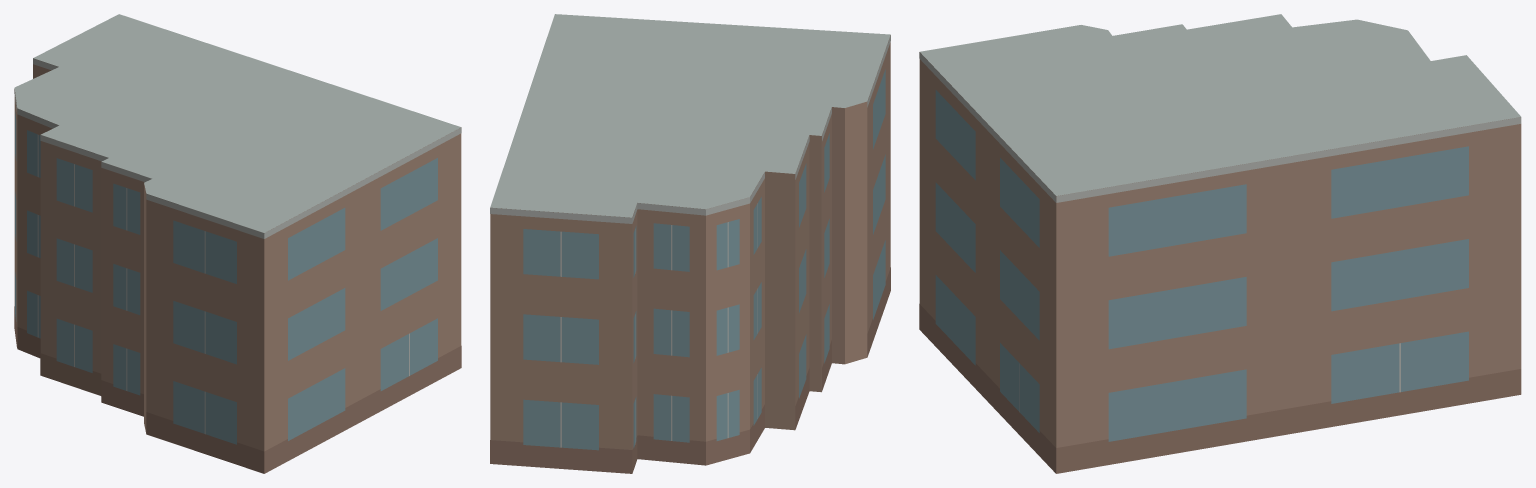
File: survey-upis-32982954.glb
The picture shows the model from 3 angles, left to right: view 1: azimuth 30°, elevation 25°; view 2: azimuth 150°, elevation 25°; view 3: azimuth 270°, elevation 25°; orthographic projection. The views are drawn at different scales.
Visible parts, largest first — view 1: survey-upis-32982954.tmp; view 2: survey-upis-32982954.tmp; view 3: survey-upis-32982954.tmp.
Boxes of the visible parts, x1,y1,x2,y2 form: survey-upis-32982954.tmp: [14, 14, 461, 473]; survey-upis-32982954.tmp: [490, 14, 890, 473]; survey-upis-32982954.tmp: [919, 14, 1521, 473].
Bounding box in the file's own units: 13.79 × 9.8 × 19.25.
